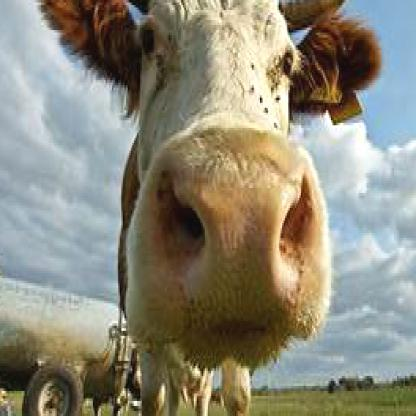cow: (36, 0, 382, 376)
